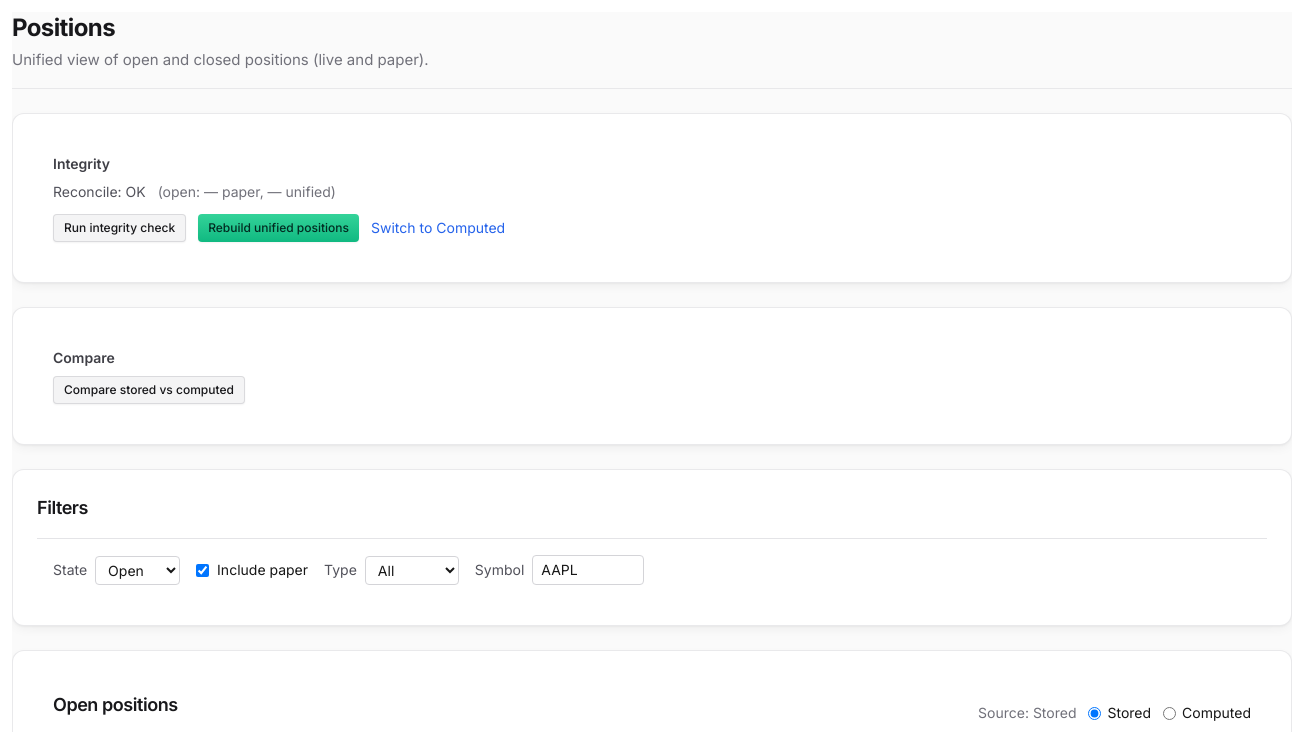
PositionsPage › R29.2: when symbol set, Compare button appears; opening Compare shows diff summary and both lists
Expected: the element with test id "positions-compare-panel" is shown, [12,307,1291,445]
Click the button with test id "positions-compare-toggle-btn" at (149,390), box [53,376,245,404]
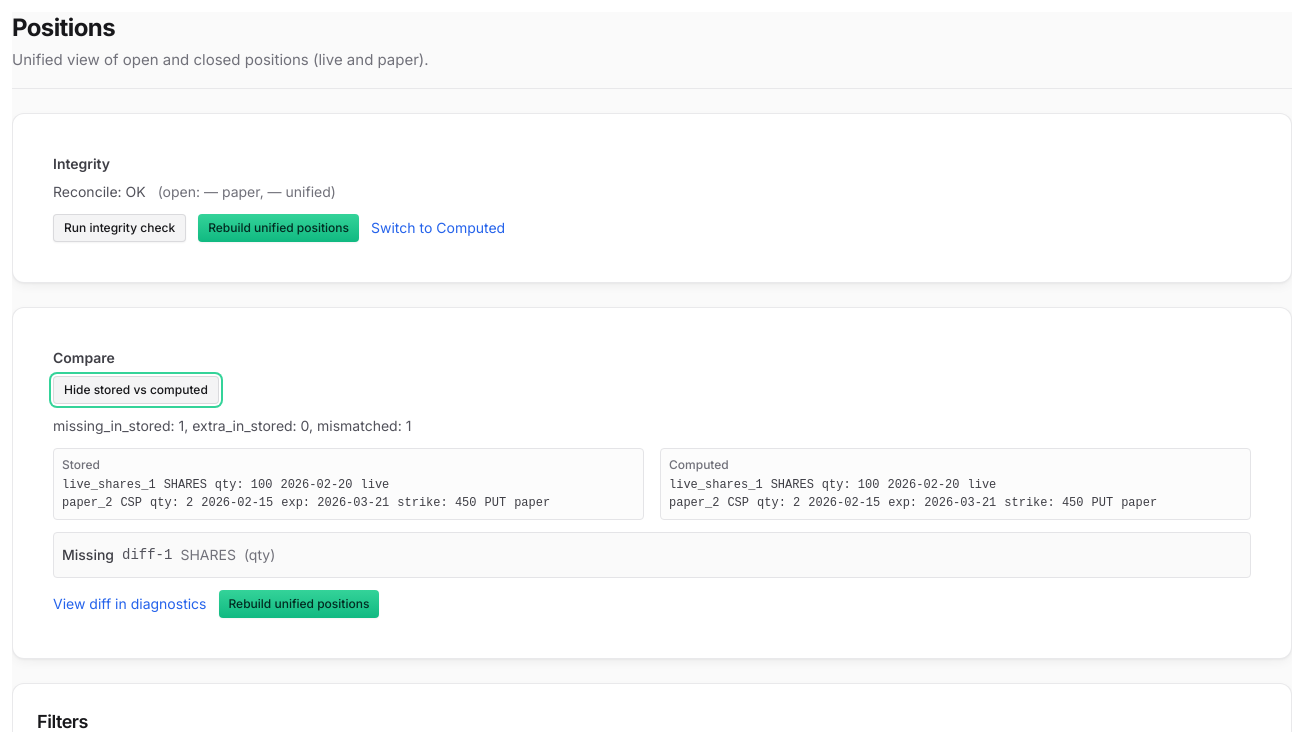
Expected: the text "missing_in_stored: 1, extra_in_stored: 0, mismatched: 1" is shown, [53,417,411,434]
Expected: the list with test id "positions-compare-diff-details" is shown, [53,532,1251,578]
Expected: the link with test id "positions-compare-view-diff-diagnostics" is shown, [53,594,206,614]
